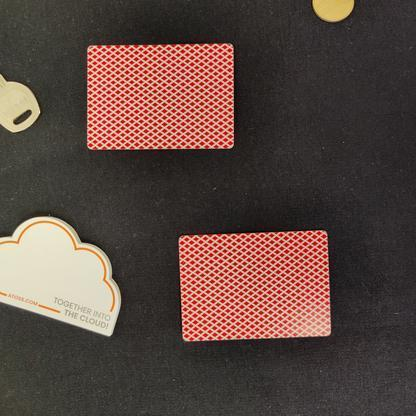card: (156, 221, 344, 348), (64, 31, 247, 159)
